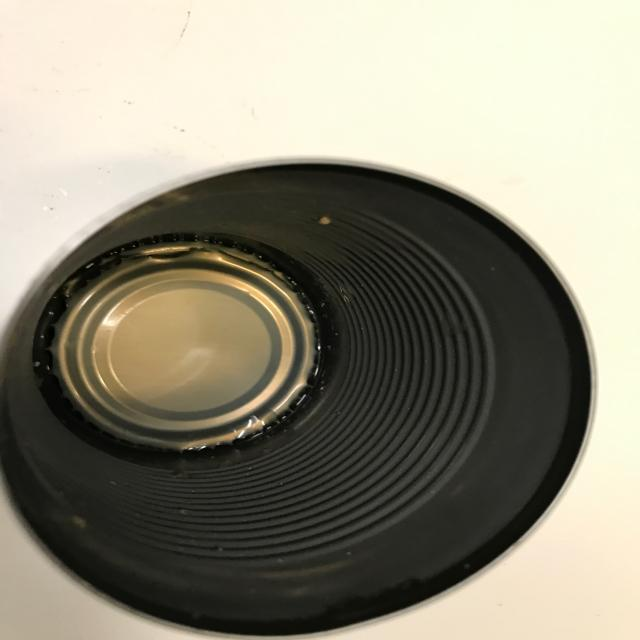metal: (3, 157, 596, 640)
